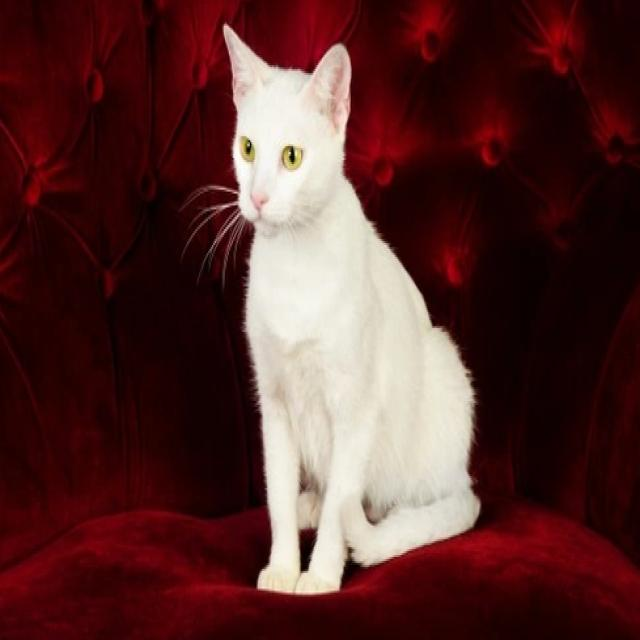Khao Manee: (213, 15, 490, 602)
